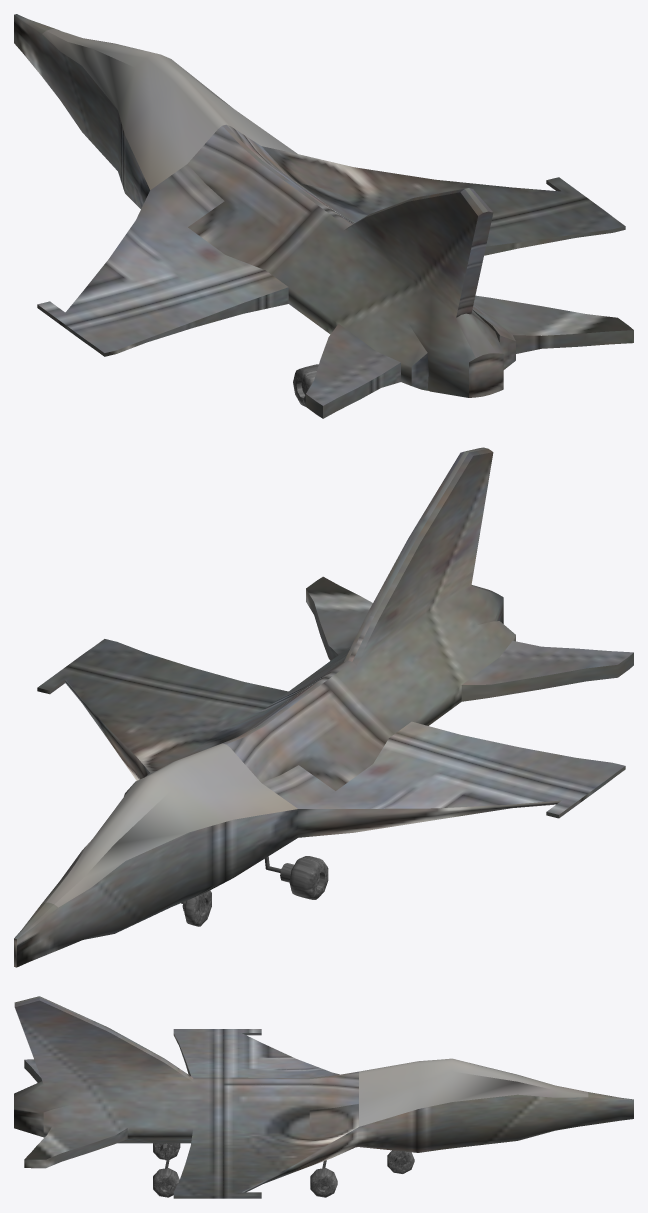
The model's file is Jet.fbx.
3 views of the same model, one above another, from view 1: azimuth 30°, elevation 25°; view 2: azimuth 150°, elevation 25°; view 3: azimuth 270°, elevation 25° (orthographic). The views are drawn at different scales.
Parts seen in each view (by area): view 1: Jet; view 2: Jet; view 3: Jet.
Boxes of the visible parts, left/top/right/bottom form: Jet: left=14, top=14, right=633, bottom=418; Jet: left=14, top=447, right=633, bottom=967; Jet: left=14, top=996, right=633, bottom=1198.
Bounding box in the file's own units: 986 × 494 × 1542.
